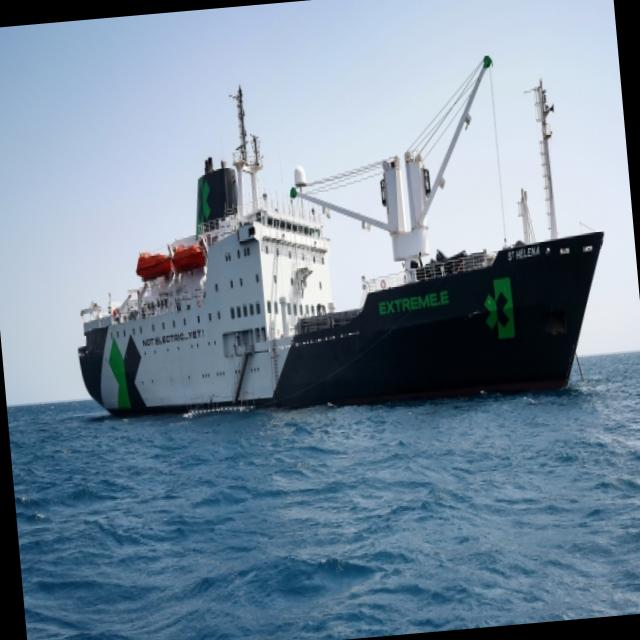boat: (30, 44, 628, 482)
